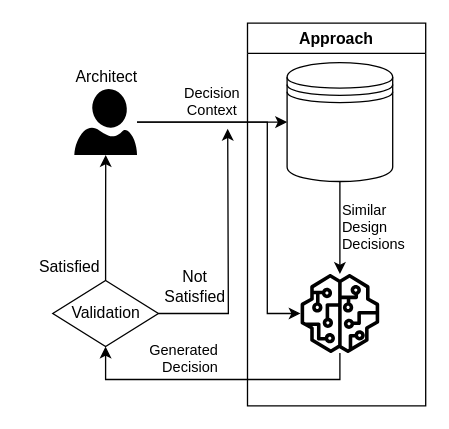
Image size: 449x429. Some labels were removed from this diagram. The shapes that lost their labels are listed below. From the top down, each one's centre as x and y in pixels, then its label:
At (x=339, y=121): "Design Decision Repository".
At (x=339, y=312): "LLM".
